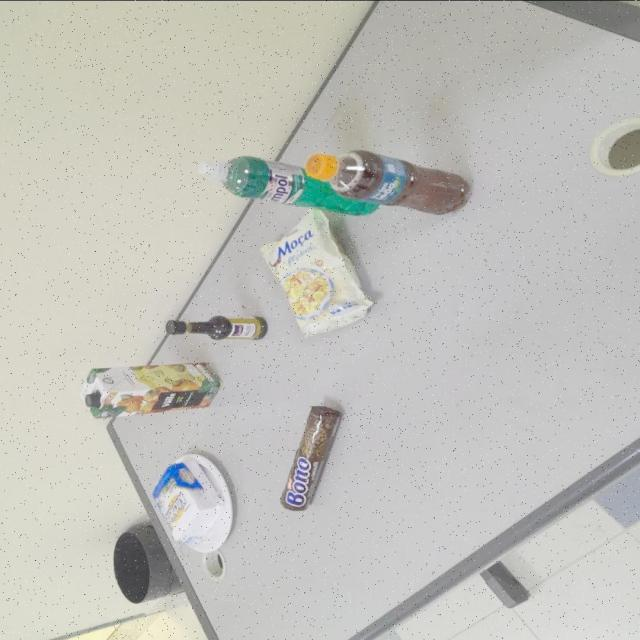Cleaner: (199, 155, 381, 215)
Cookies: (281, 404, 345, 514)
CornFlakes: (261, 209, 377, 336)
EnglishSauce: (167, 315, 268, 339)
IceTea: (306, 149, 470, 214)
